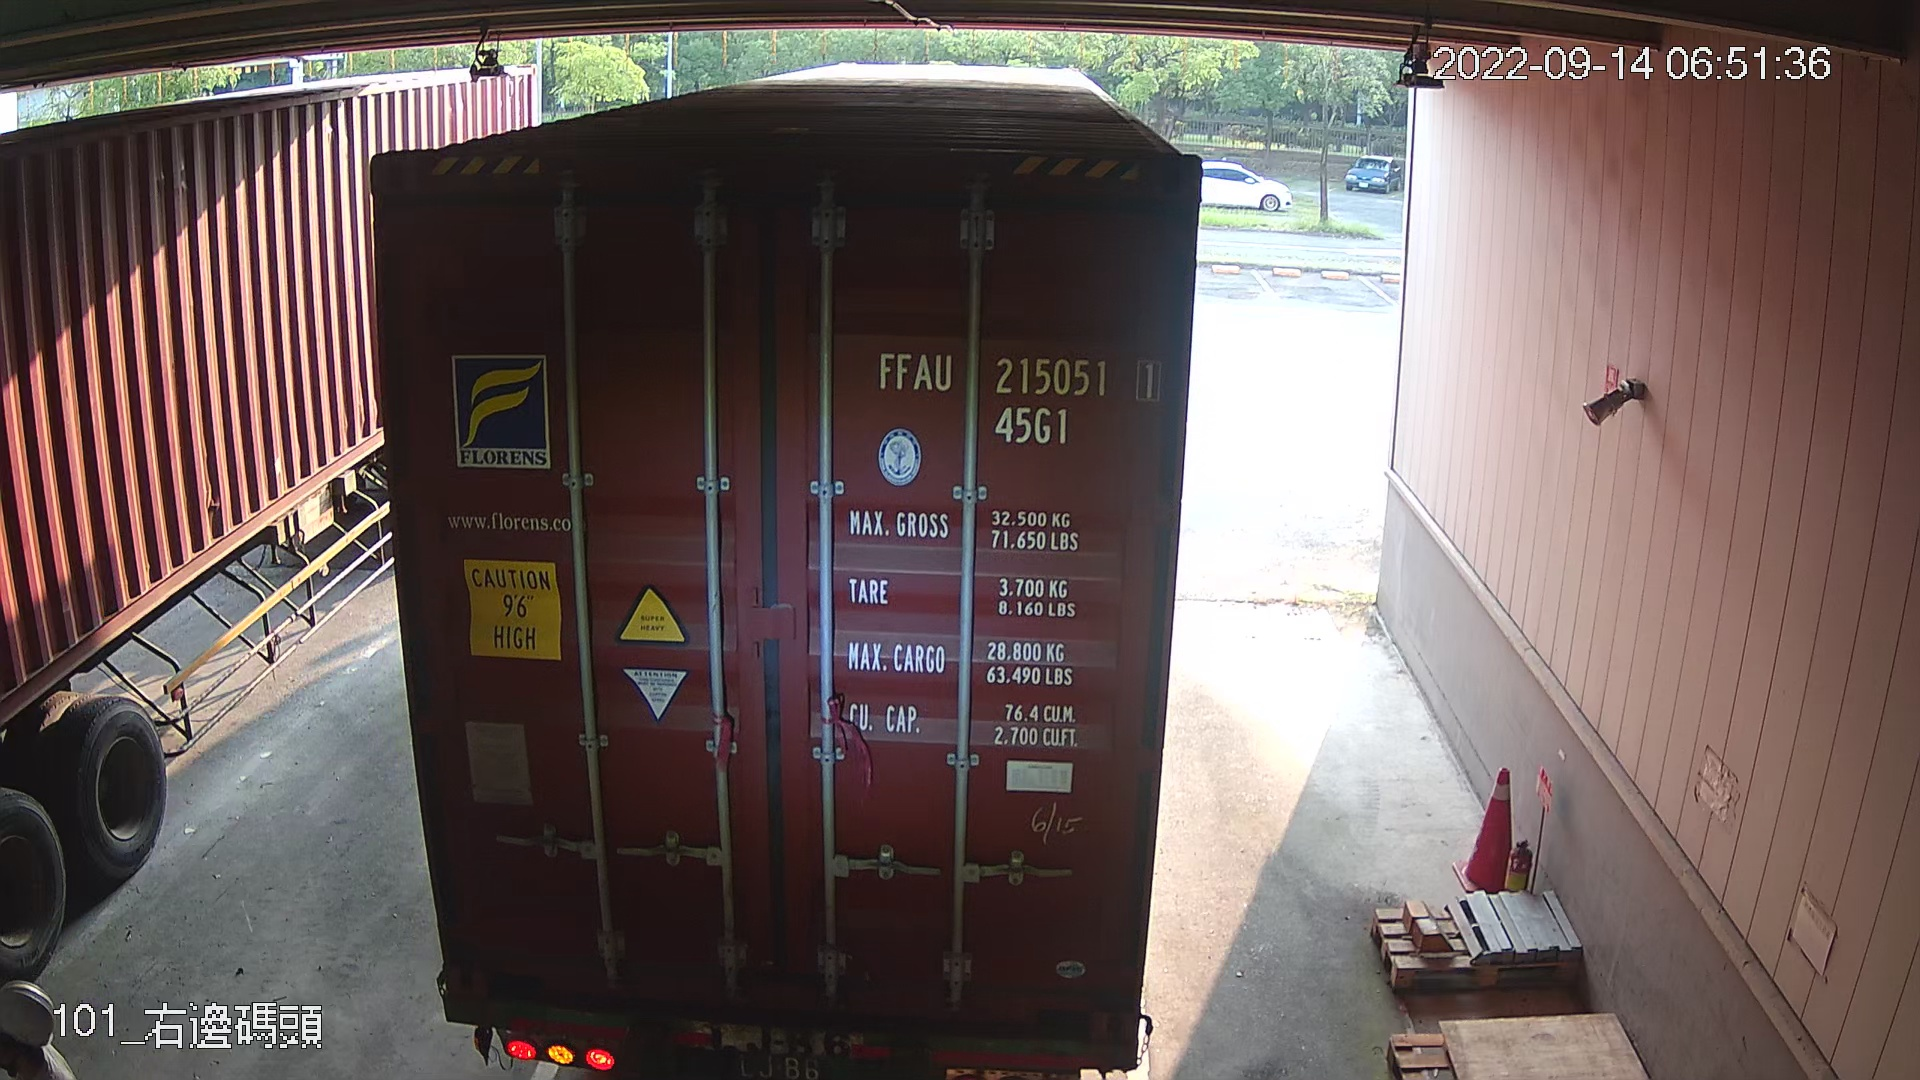container: (862, 344, 1172, 451)
